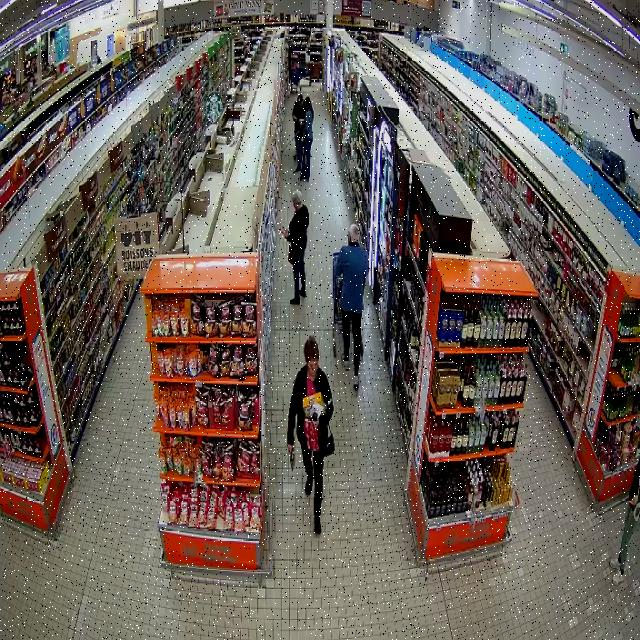article: (302, 392, 326, 417), (308, 402, 323, 418), (290, 448, 296, 472), (279, 229, 290, 236), (313, 411, 317, 422)
bags: (320, 429, 334, 456), (288, 242, 295, 266)
hands: (287, 444, 295, 453), (312, 419, 319, 429)
person: (287, 336, 333, 534), (335, 224, 367, 389), (283, 189, 308, 304)
